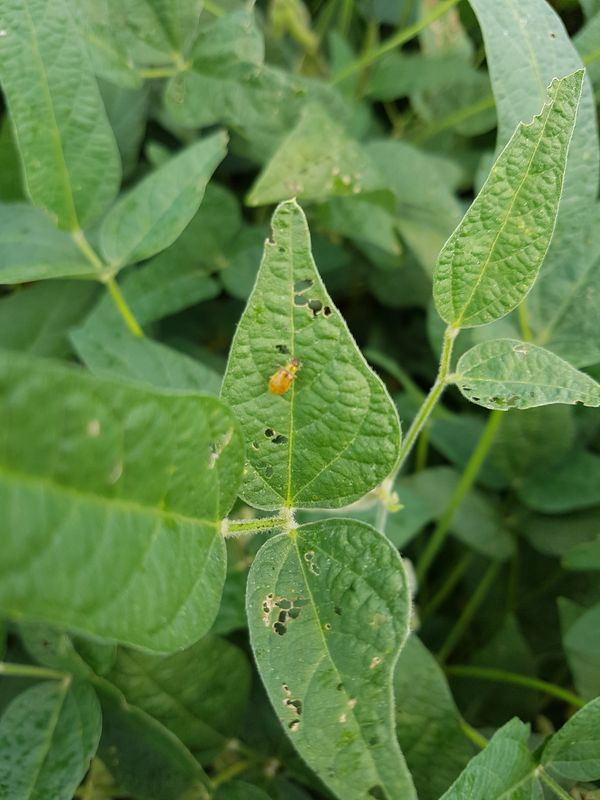Diabrotica_speciosa: (260, 352, 312, 404)
